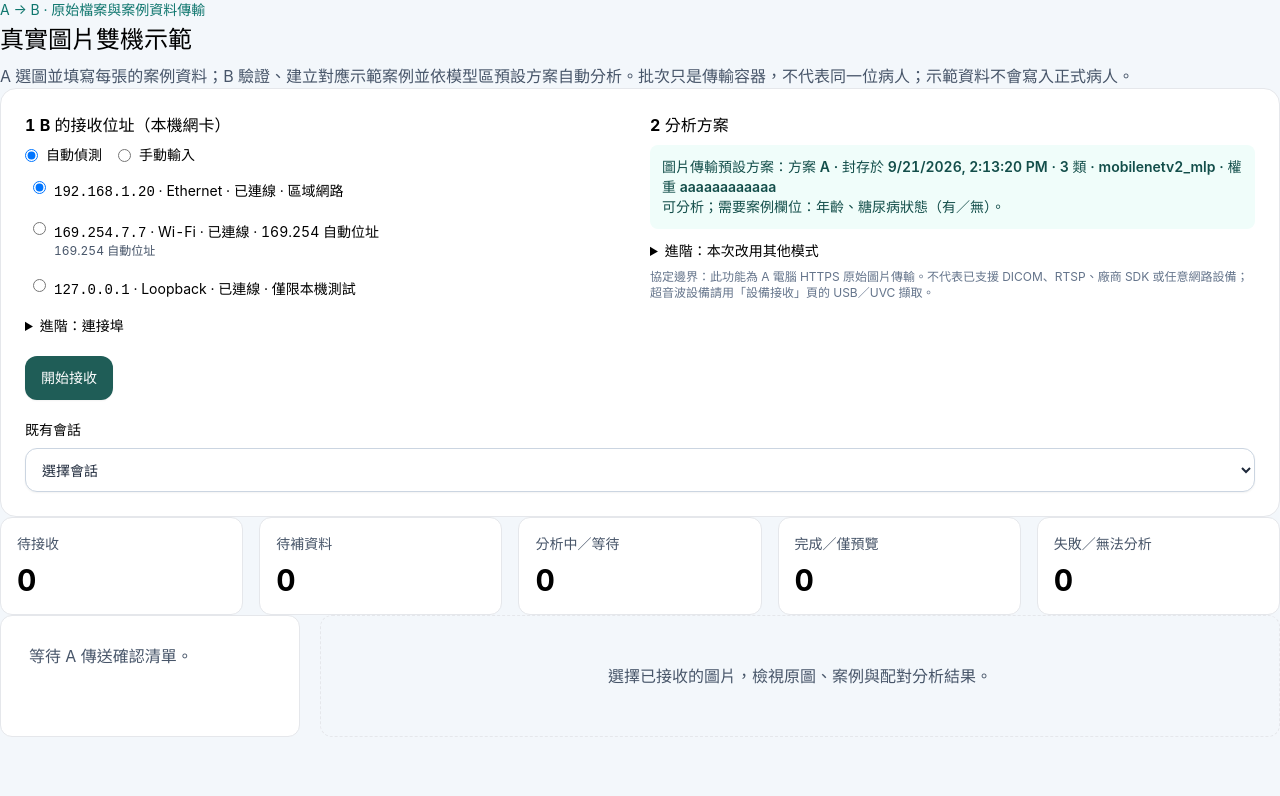
Test: preselects the single LAN card, labels link-local and loopback, and starts with the default plan
Expected: the radio button labelled "192.168.1.20 · Ethernet · 已連線 · 區域網路" is checked, [33,181,46,194]
Expected: the radio button labelled "169.254.7.7 · Wi-Fi · 已連線 · 169.254 自動位址 169.254 自動位址" is not checked, [33,222,46,235]
Click the button "開始接收". click: click(69, 378)
box: [25,356,113,400]
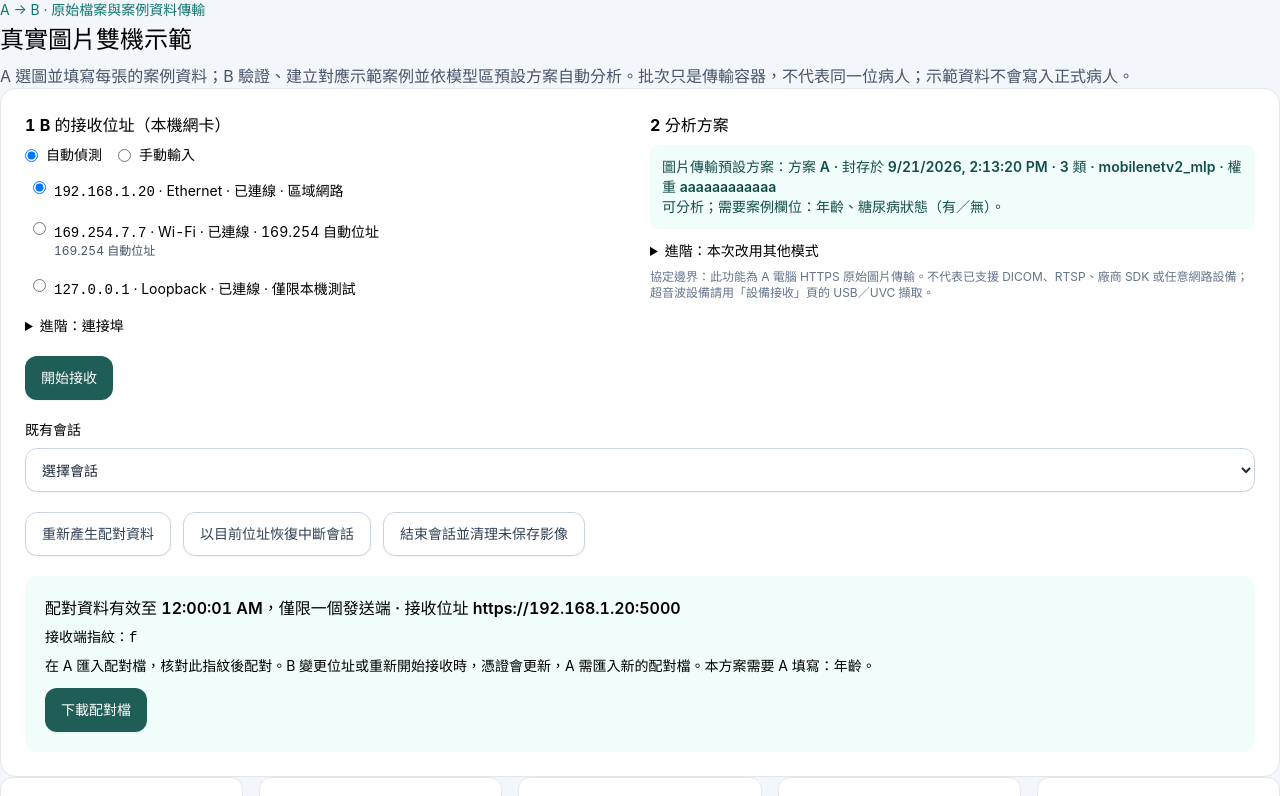
Expected: the text "本方案需要 A 填寫：年齡" is shown, [704,657,876,674]
